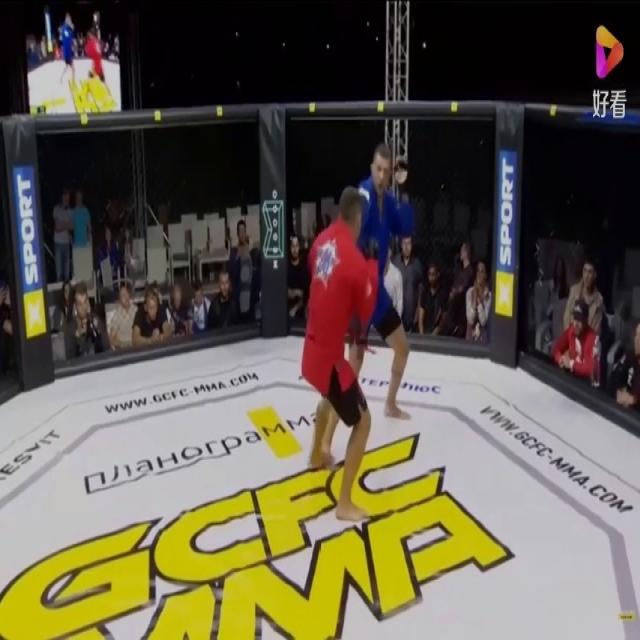fight: (296, 146, 420, 521)
